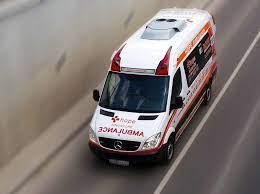ambulance_off: (87, 7, 218, 168)
